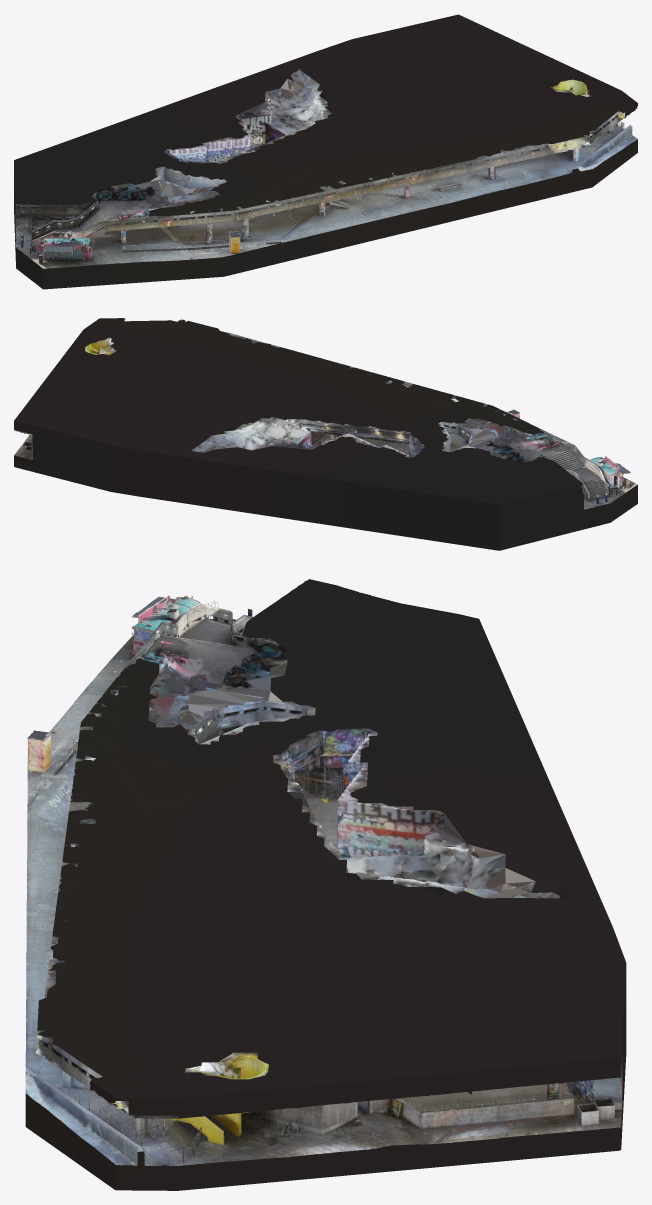
The model's file is skatepark.glb.
3 renders of one model, top to bottom at view 1: azimuth 30°, elevation 25°; view 2: azimuth 150°, elevation 25°; view 3: azimuth 270°, elevation 25°, orthographic. The views are drawn at different scales.
Parts seen in each view (by area): view 1: Object_2, Object_10, Object_3, Object_4, Object_6, Object_5, Object_23, Object_7, Object_21, Object_15, Object_22, Object_17 (+8 smaller); view 2: Object_2, Object_10, Object_3, Object_5, Object_6, Object_8, Object_4, Object_13, Object_17, Object_15, Object_9, Object_23; view 3: Object_2, Object_10, Object_4, Object_9, Object_5, Object_3, Object_6, Object_7, Object_13, Object_15, Object_11, Object_12 (+7 smaller).
Boxes of the visible parts, x1,y1,x2,y2 form: Object_2: (14,14,637,289); Object_10: (30,121,633,253); Object_3: (27,80,620,261); Object_4: (15,102,627,263); Object_6: (29,79,586,260); Object_5: (43,68,318,262); Object_23: (20,142,578,258); Object_7: (17,144,498,251); Object_21: (28,130,599,254); Object_15: (90,108,637,261); Object_22: (15,119,569,246); Object_17: (43,209,319,267); Object_2: (14,318,637,550); Object_10: (386,396,612,493); Object_3: (90,352,615,501); Object_5: (23,433,623,487); Object_6: (85,344,624,495); Object_8: (87,343,594,503); Object_4: (121,318,592,482); Object_13: (15,345,577,458); Object_17: (333,434,632,485); Object_15: (125,321,568,462); Object_9: (30,435,603,492); Object_23: (377,380,618,500); Object_2: (25,579,626,1190); Object_10: (32,612,598,1165); Object_4: (29,580,577,1149); Object_9: (88,631,550,1153); Object_5: (71,595,621,1121); Object_3: (27,618,566,1124); Object_6: (37,595,414,1161); Object_7: (27,609,587,1137); Object_13: (27,629,621,1165); Object_15: (27,639,563,1151); Object_11: (26,629,441,1155); Object_12: (27,595,511,1151).
Bounding box in the file's own units: 84.16 × 6.81 × 40.04.
Materials: 1 (1 with a texture image).
